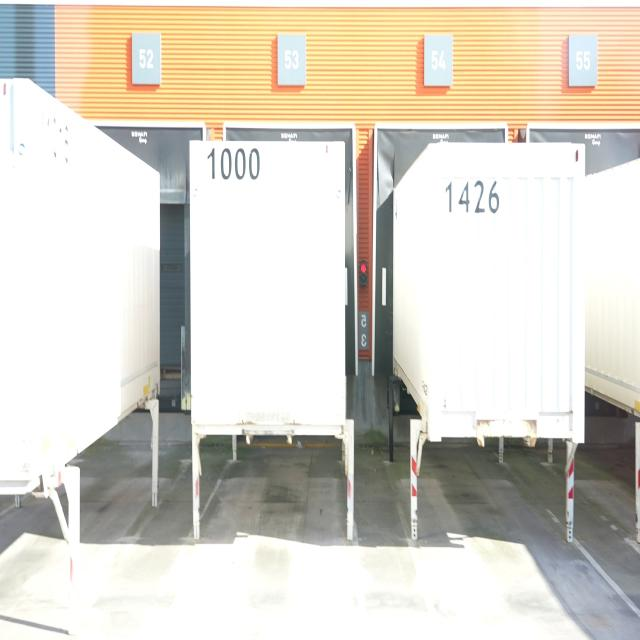Code: (440, 176, 502, 218), (206, 141, 264, 181)
